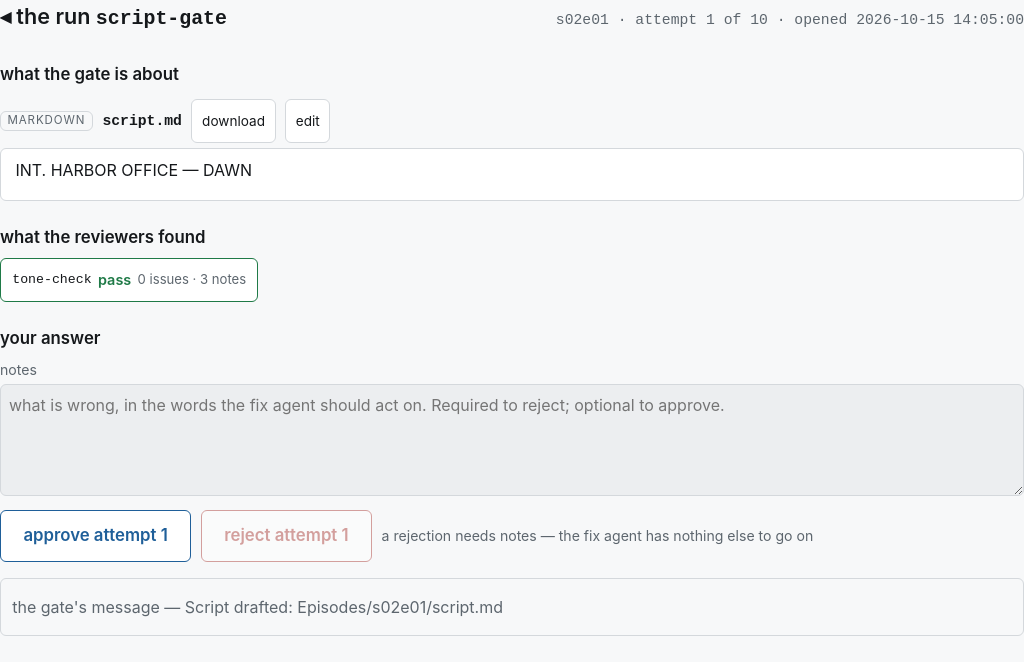
Test case: the verdict board at the gate › says what a reviewer noted and what it closed, so a green by declaration is visible
Expected: the text "INT. HARBOR OFFICE — DAWN" is shown, 15,160 -> 252,180
Expected: the text "0 issues · 3 notes" is shown, 138,270 -> 246,290
What coordinates should you click on to do the following:
click the button "tone-check pass 0 issues · 3 notes"
I would click on:
 (129, 280)
Its box is 0,258 -> 258,302.
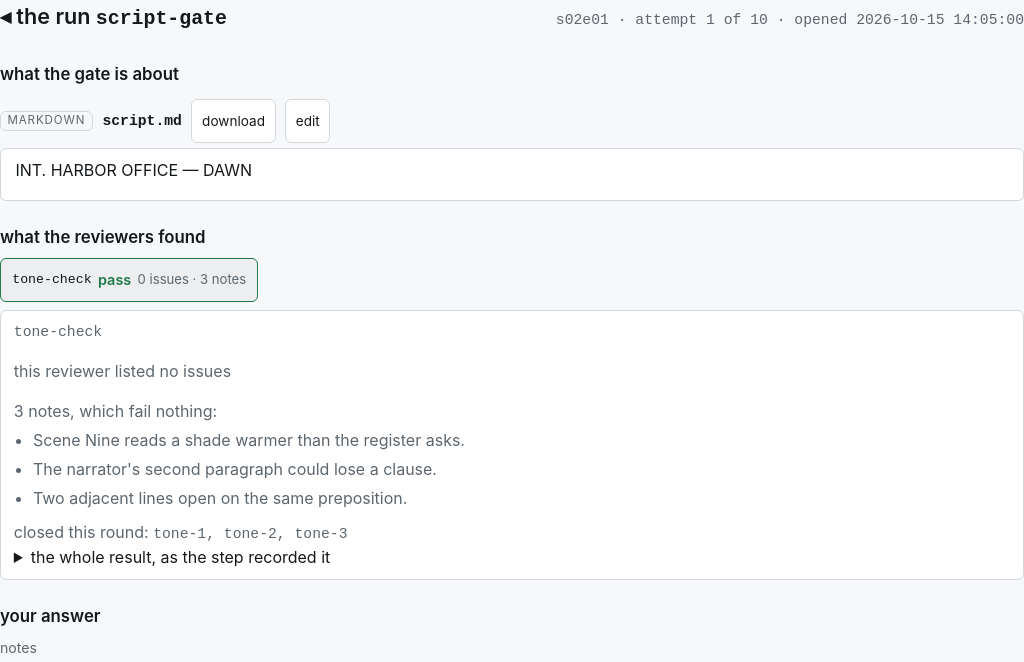
Expected: the text "3 notes, which fail nothing" is shown, 0,310 -> 1023,580
Expected: the text "Scene Nine reads a shade warmer" is shown, 33,430 -> 465,450
Expected: the text "Two adjacent lines open on the same preposition" is shown, 33,488 -> 407,508
